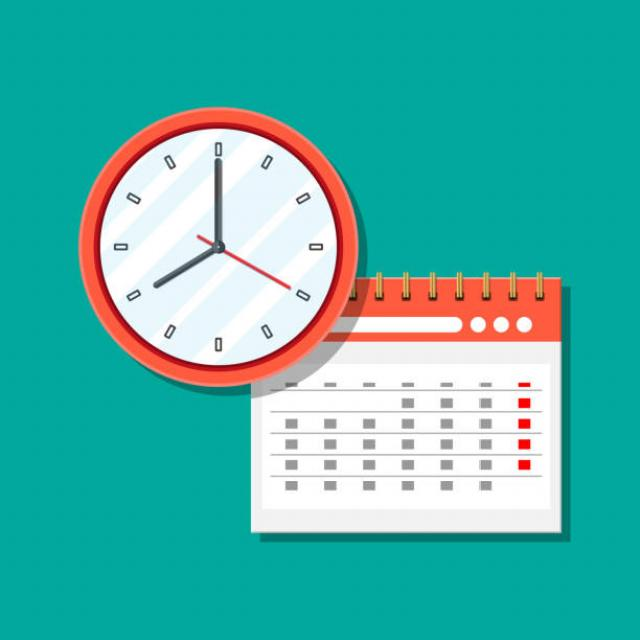clock: (48, 42, 636, 583)
